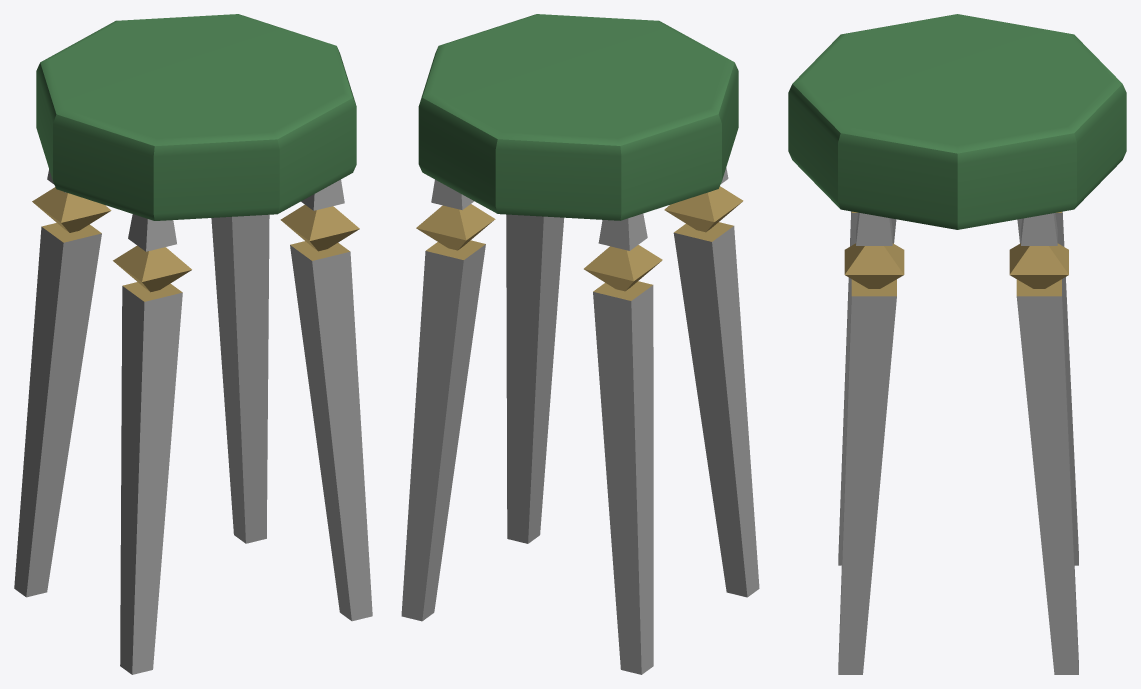
The model's file is Stool-Ship.fbx.
3 renders of one model, left to right at view 1: azimuth 30°, elevation 25°; view 2: azimuth 150°, elevation 25°; view 3: azimuth 270°, elevation 25°, orthographic. The views are drawn at different scales.
Visible parts, largest first — view 1: Stool; view 2: Stool; view 3: Stool.
Boxes of the visible parts, <box> form: Stool: <box>14,14,372,674</box>; Stool: <box>401,14,759,674</box>; Stool: <box>788,14,1126,674</box>.
Size of the model in its own units: 234 by 410 by 234.
